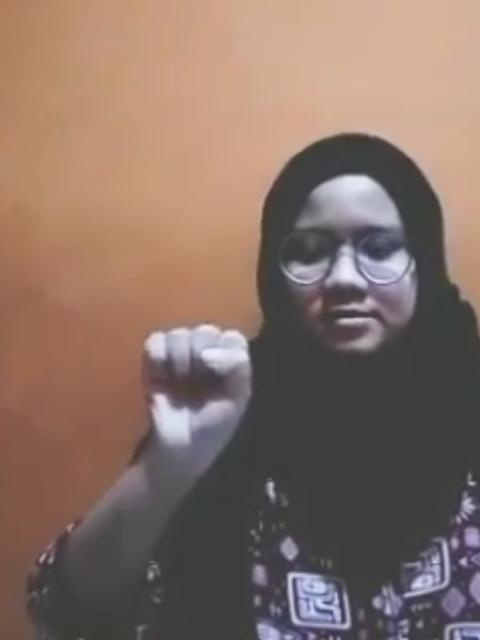S: (140, 322, 255, 462)
